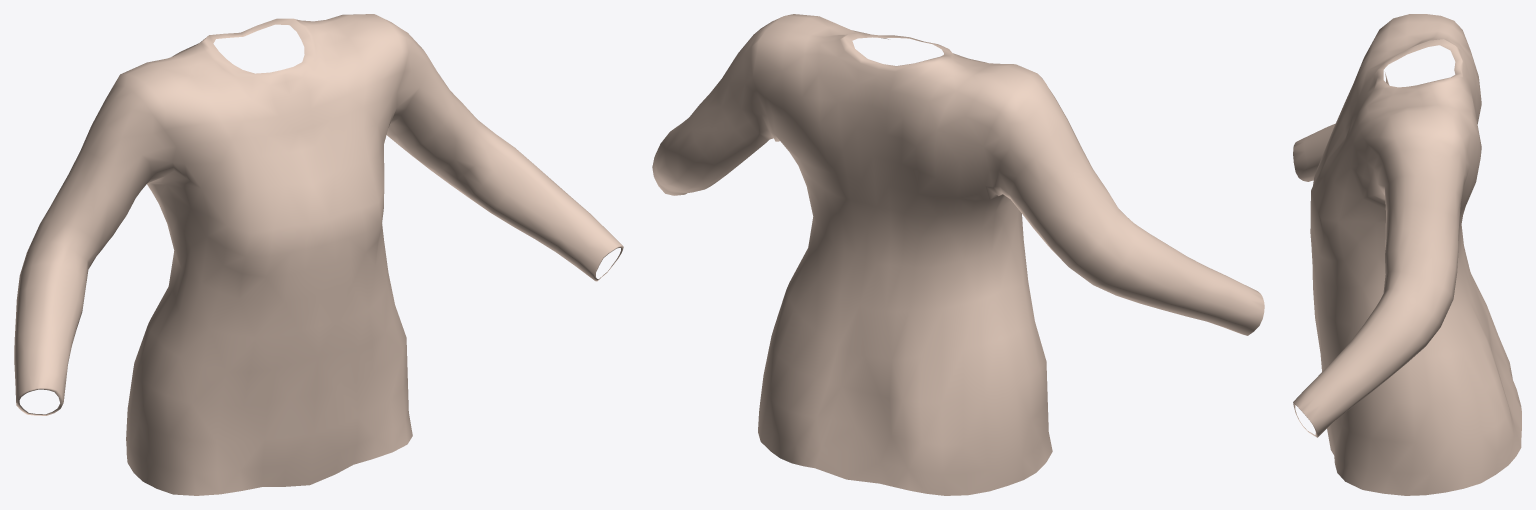
File: longSleeve.glb
The picture shows the model from 3 angles, left to right: view 1: azimuth 30°, elevation 25°; view 2: azimuth 150°, elevation 25°; view 3: azimuth 270°, elevation 25°; orthographic projection. The views are drawn at different scales.
Parts seen in each view (by area): view 1: Garment; view 2: Garment; view 3: Garment.
Boxes of the visible parts, <box> form: Garment: <box>14,14,623,495</box>; Garment: <box>652,14,1264,495</box>; Garment: <box>1293,14,1521,495</box>.
Size of the model in its own units: 0.9103 by 0.5907 by 0.3198.
